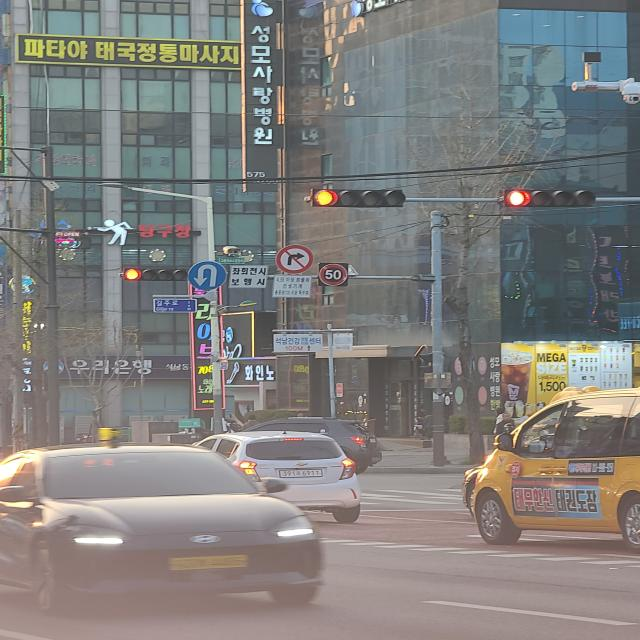Red Light: (310, 189, 339, 207), (505, 189, 532, 208), (125, 268, 141, 280)
